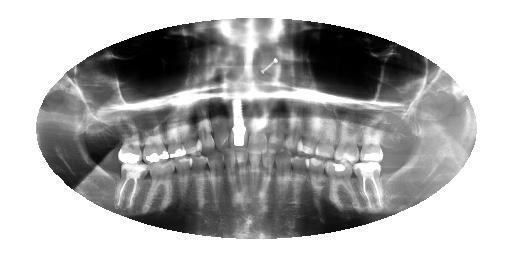i10decay: (225, 149, 235, 213)
i11decay: (209, 152, 223, 216)
i12decay: (195, 153, 209, 217)
i13decay: (176, 155, 194, 208)
i14decay: (147, 159, 177, 215)
i15healthy: (119, 163, 147, 212)
i16loss: (96, 168, 120, 202)
i1loss: (383, 161, 405, 212)
i2healthy: (357, 161, 384, 211)
i3healthy: (329, 163, 356, 219)
i4decay: (307, 159, 328, 214)
i5decay: (290, 155, 308, 215)
i6decay: (276, 147, 294, 210)
i7decay: (263, 149, 276, 208)
i8decay: (248, 149, 263, 210)
i9decay: (236, 147, 249, 209)
u10loss: (217, 110, 232, 147)
u11decay: (201, 117, 215, 151)
u12decay: (186, 118, 201, 156)
u13healthy: (168, 121, 186, 157)
u14healthy: (141, 123, 166, 164)
u15healthy: (118, 125, 140, 166)
u16loss: (95, 127, 117, 164)
u1loss: (383, 125, 407, 164)
u2healthy: (360, 123, 384, 161)
u3healthy: (336, 122, 359, 162)
u4healthy: (317, 116, 337, 158)
u5healthy: (298, 112, 319, 154)
u6decay: (287, 110, 304, 151)
u7loss: (271, 103, 288, 150)
u8decay: (246, 109, 268, 149)
u9loss: (232, 103, 248, 150)
